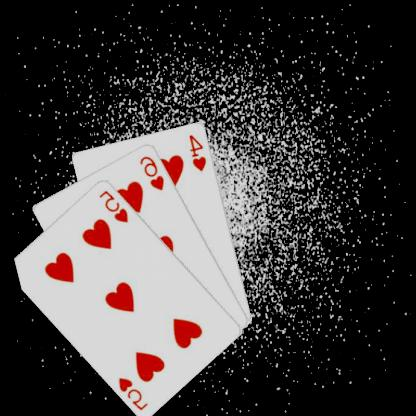4H: (188, 132, 210, 172)
5H: (98, 187, 132, 224), (117, 374, 151, 411)
6H: (139, 152, 168, 192)
